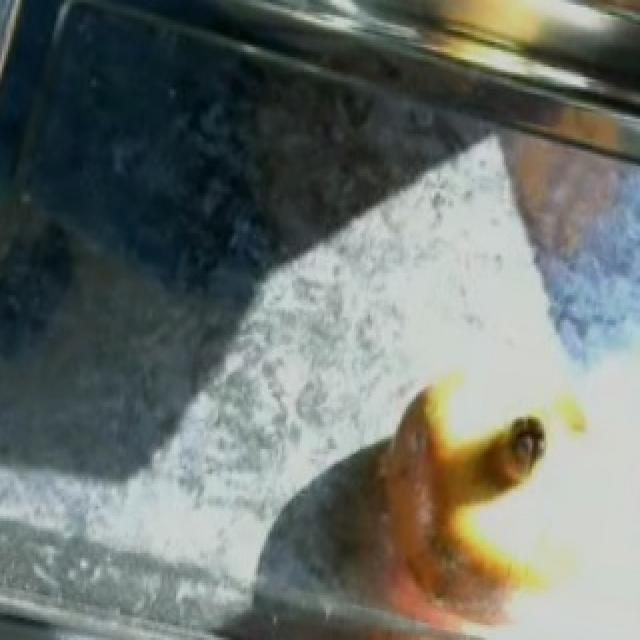fruit: (358, 330, 626, 533)
